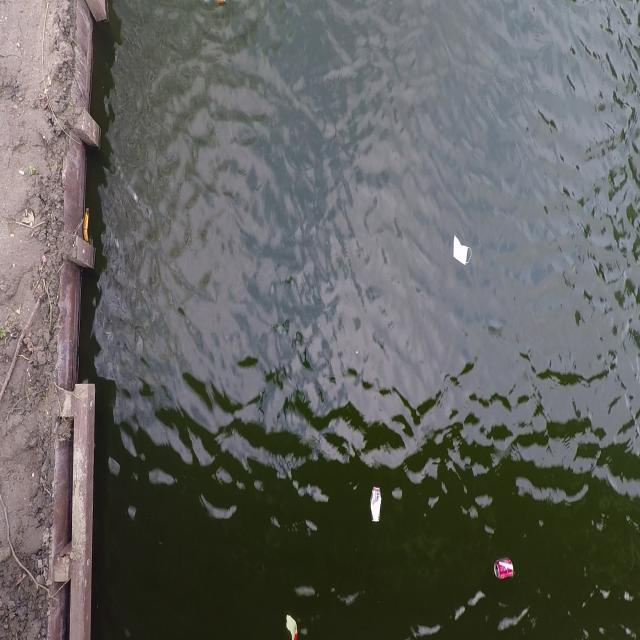Non plastique: (447, 233, 474, 274), (368, 485, 385, 527), (494, 556, 516, 585)
